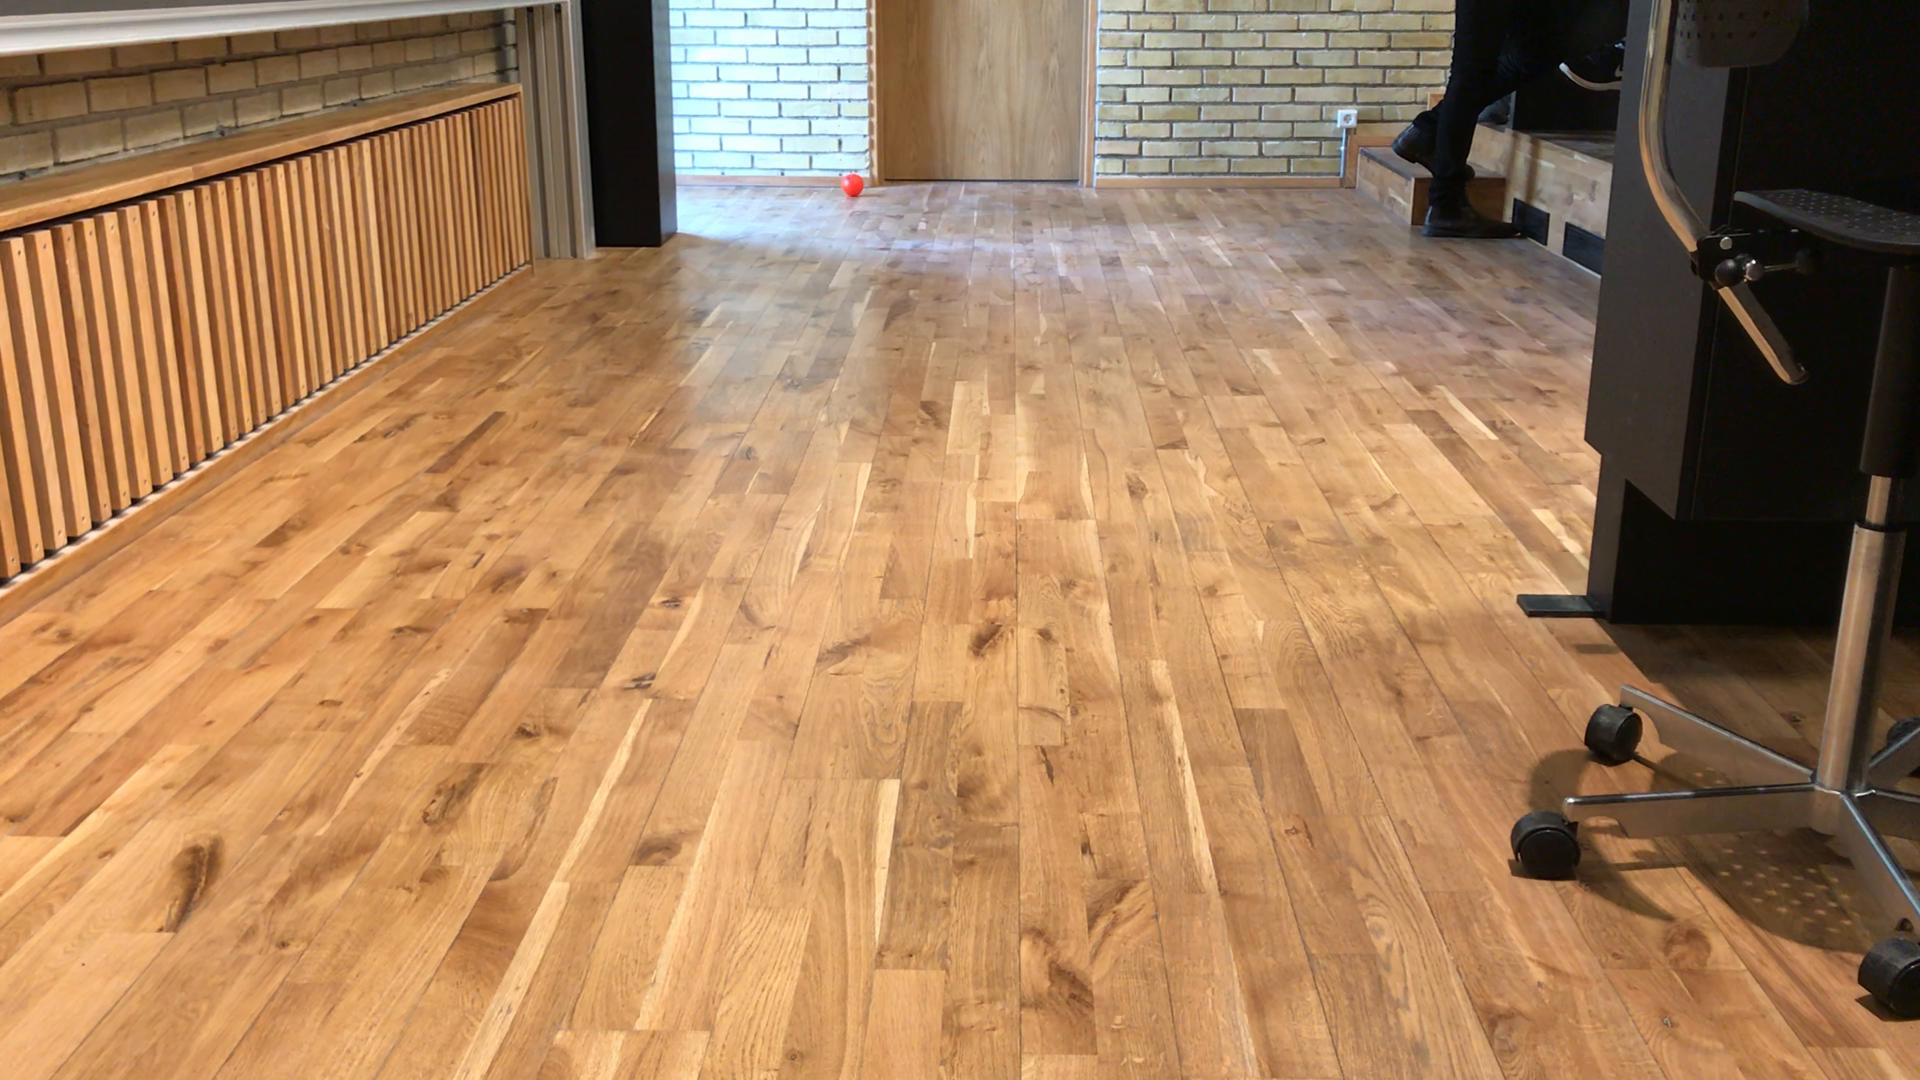Ball: (841, 175, 865, 199)
